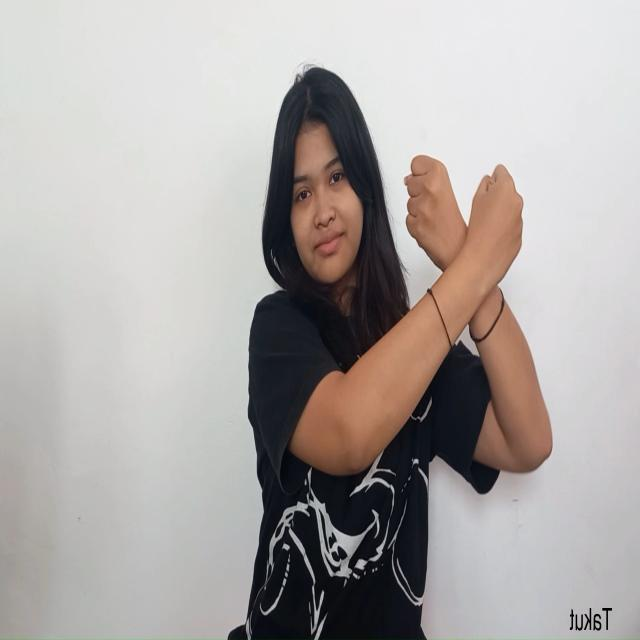Takut -BISINDO-: (402, 151, 526, 328)
